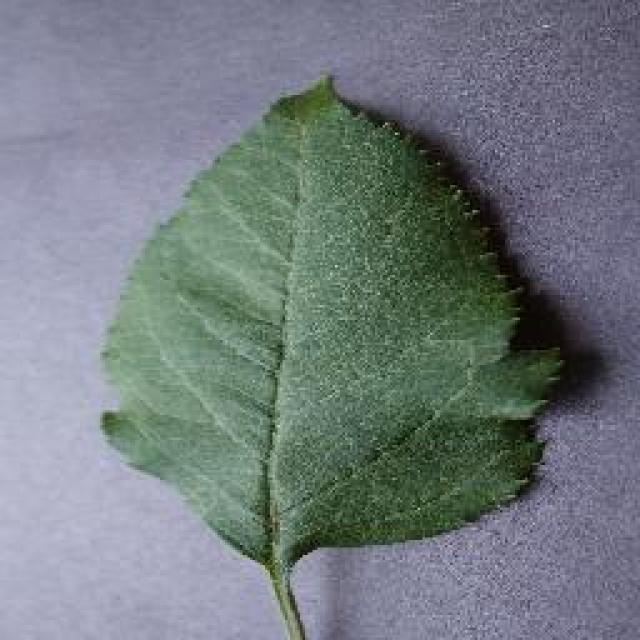apple healthy: (95, 70, 565, 638)
